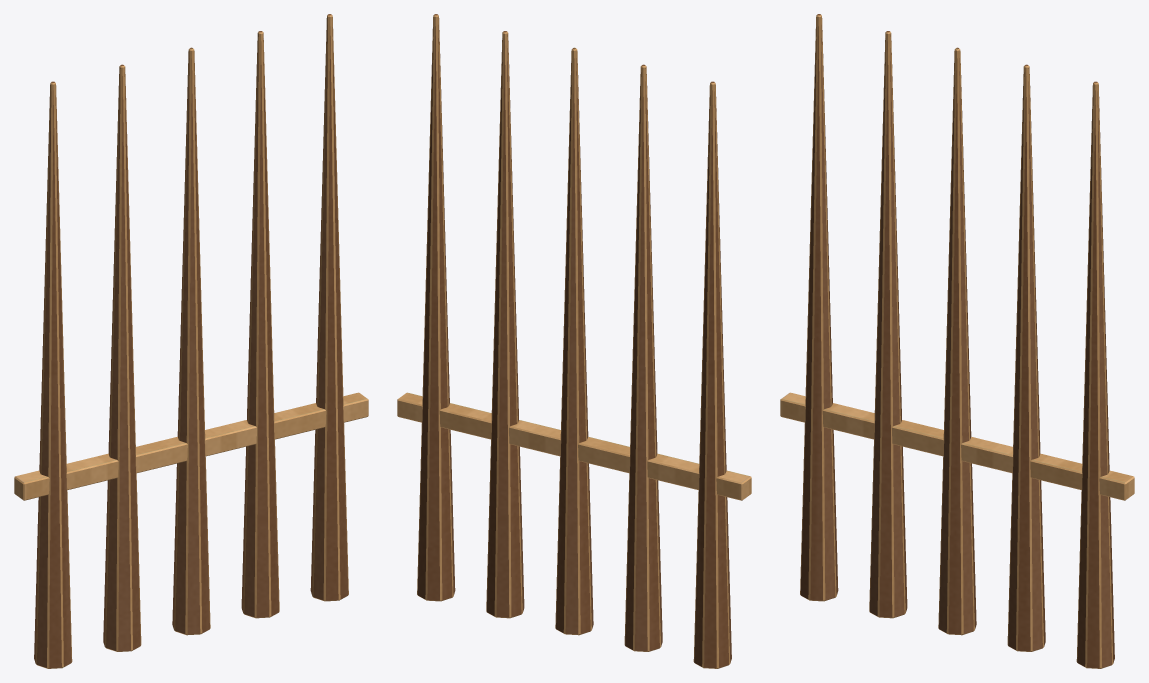
Rendered from sm_palisade_wall.glb.
3 views of the same model, side by side, from view 1: azimuth 30°, elevation 25°; view 2: azimuth 150°, elevation 25°; view 3: azimuth 330°, elevation 25° (orthographic).
Visible parts, largest first — view 1: sm_palisade_wall; view 2: sm_palisade_wall; view 3: sm_palisade_wall.
Part boxes in pixels (x1,y1,x2,y2): sm_palisade_wall: (14,14,368,668); sm_palisade_wall: (397,14,751,668); sm_palisade_wall: (780,14,1134,668).
Bounding box in the file's own units: 1 × 1.6 × 0.0975.
Materials: 1 (1 with a texture image).
